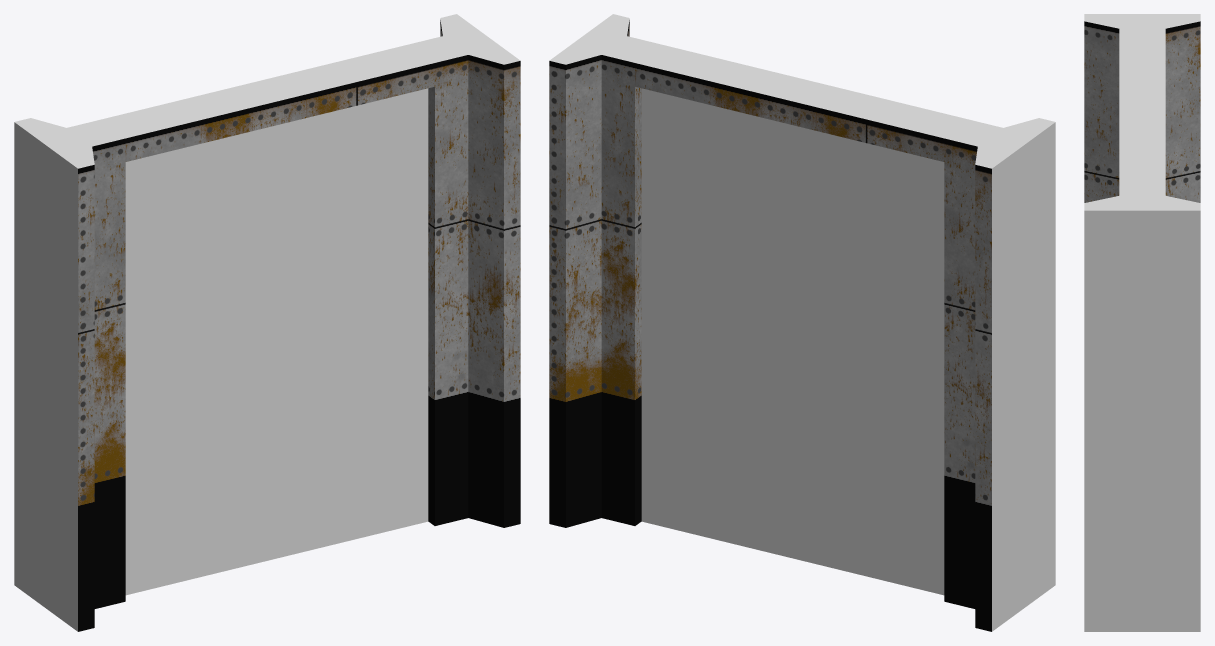
Rendered from Doors.fbx.
The picture shows the model from 3 angles, left to right: view 1: azimuth 30°, elevation 25°; view 2: azimuth 150°, elevation 25°; view 3: azimuth 270°, elevation 25°; orthographic projection. The views are drawn at different scales.
Parts seen in each view (by area): view 1: Doorframe, Door2, Door1; view 2: Doorframe, Door2, Door1; view 3: Doorframe.
Part boxes in pixels (x1,y1,x2,y2): Doorframe: [14, 14, 520, 631]; Door2: [274, 88, 428, 558]; Door1: [125, 126, 273, 595]; Doorframe: [549, 14, 1055, 631]; Door2: [641, 88, 795, 558]; Door1: [796, 126, 944, 595]; Doorframe: [1084, 14, 1200, 631].
Size of the model in its own units: 200 by 200 by 50.
